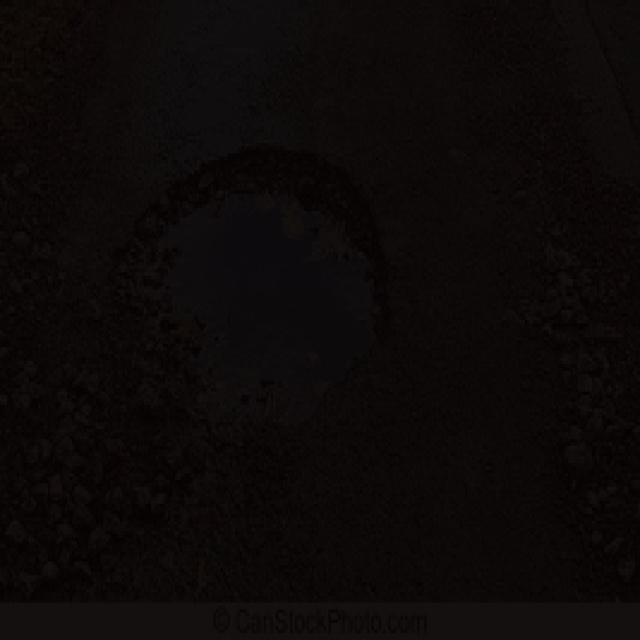Pothole: (110, 130, 405, 458)
